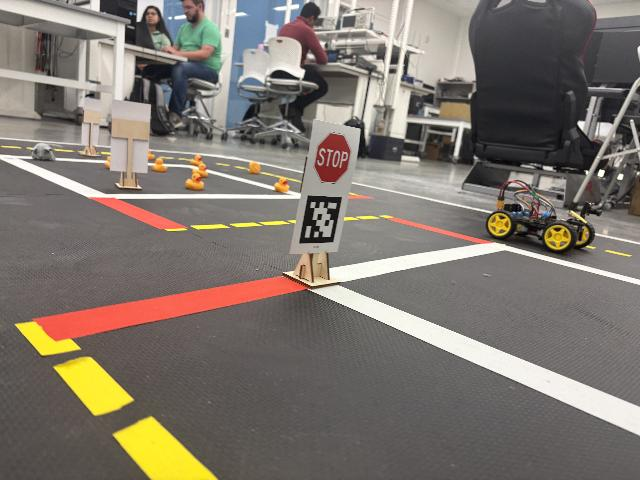duck: (185, 173, 205, 190), (273, 177, 290, 193), (193, 162, 209, 178), (152, 157, 167, 172), (105, 155, 118, 170), (190, 155, 204, 167), (249, 161, 261, 174), (148, 148, 155, 161)
mouse: (30, 142, 57, 162)
redline: (33, 275, 307, 343), (89, 196, 186, 230), (385, 215, 490, 243), (350, 195, 373, 201)
stopsign: (313, 132, 352, 186)
whiteline: (311, 285, 640, 437), (229, 154, 640, 244), (329, 243, 505, 286), (506, 245, 640, 285), (4, 161, 112, 200), (190, 163, 300, 196), (0, 153, 188, 167), (111, 192, 301, 199)
yellowline: (15, 318, 221, 480), (168, 215, 391, 234), (0, 144, 194, 162), (217, 161, 304, 183), (583, 242, 640, 260)
